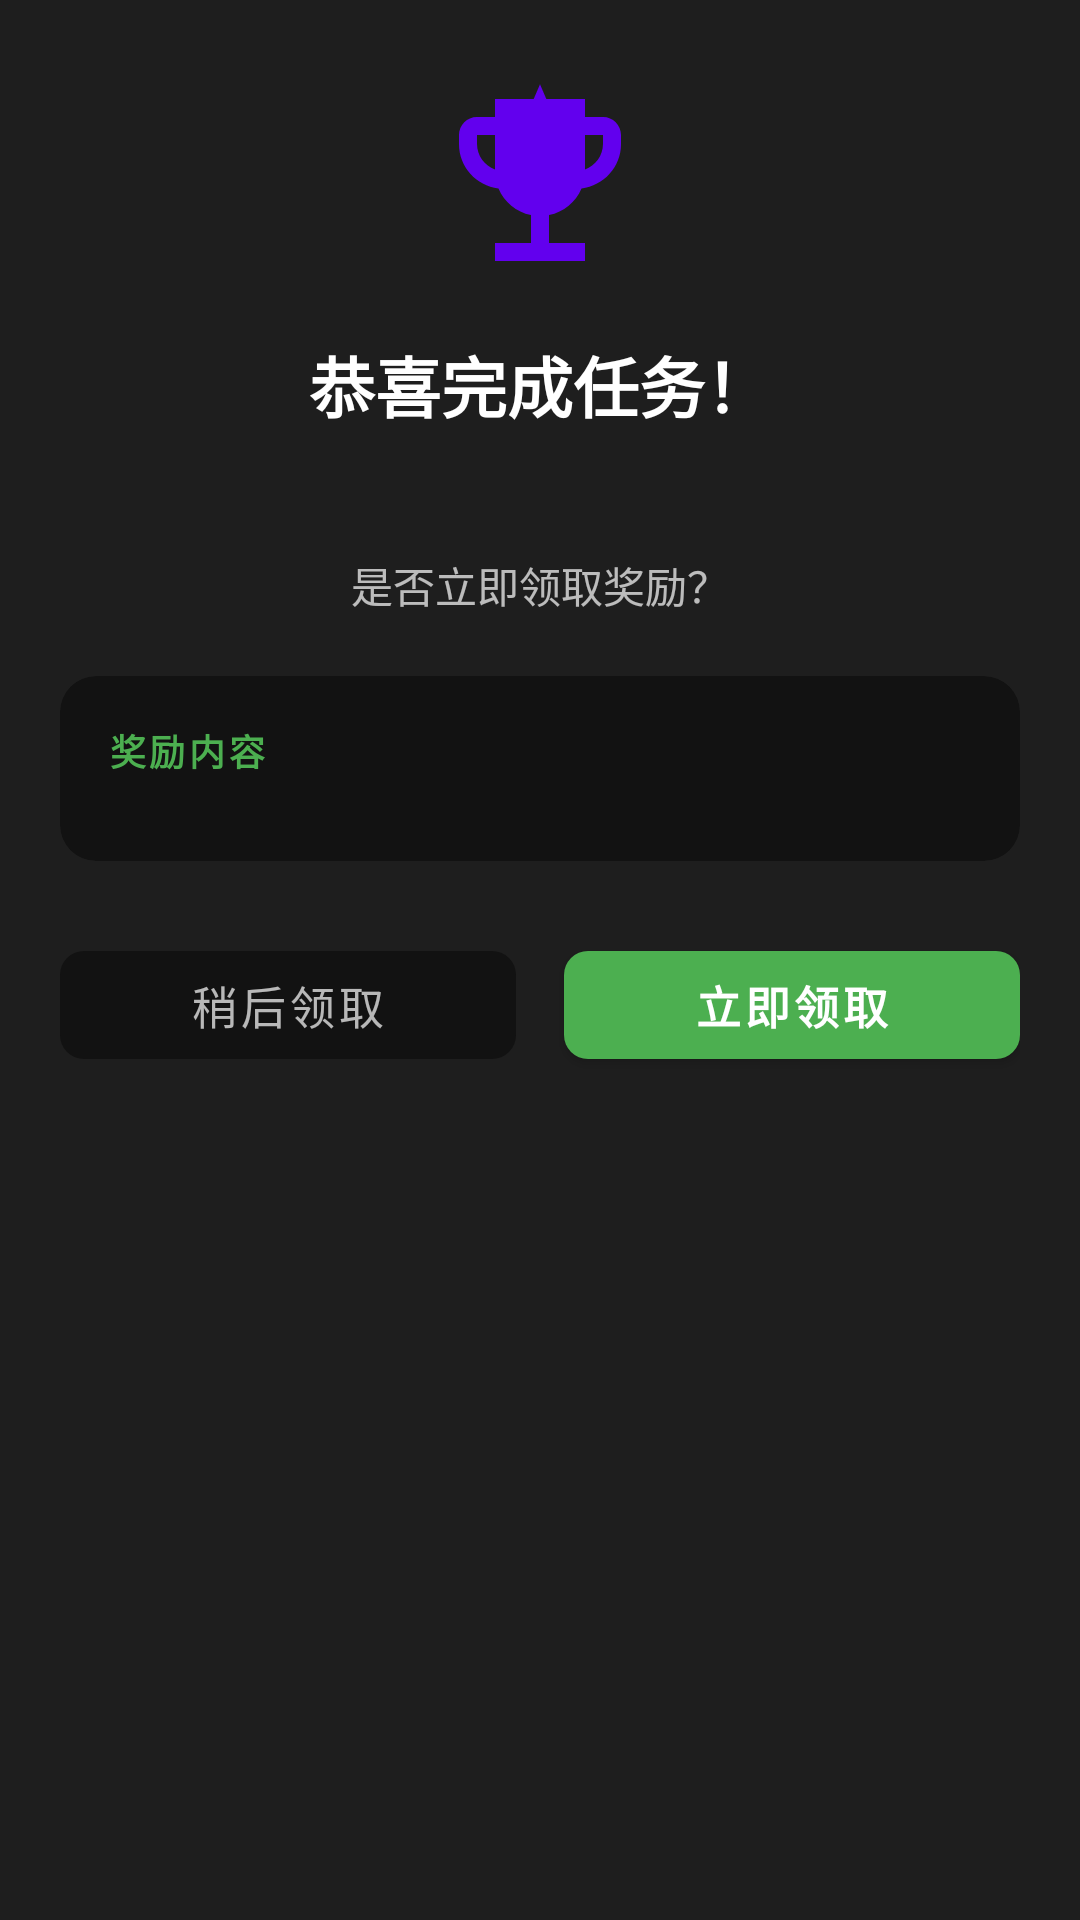

Where to tap for icons on this 1080w x 1920h app screen, as (x=x, y=y):
trophy: (x=540, y=172)
